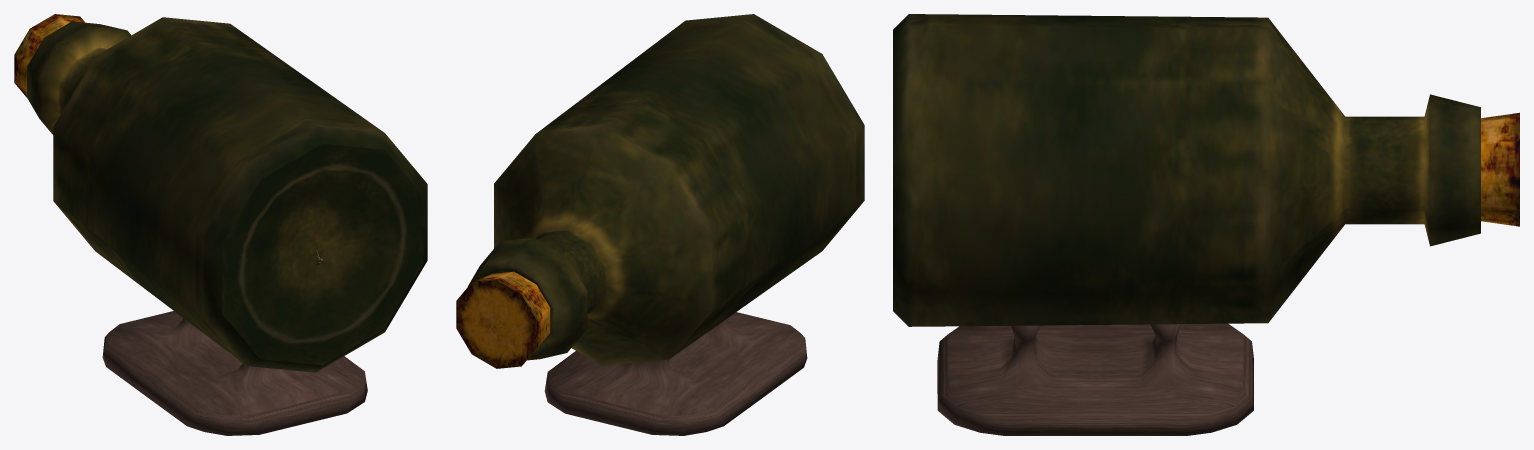
File: ShipInABottle.fbx
3 renders of one model, left to right at view 1: azimuth 30°, elevation 25°; view 2: azimuth 150°, elevation 25°; view 3: azimuth 270°, elevation 25°, orthographic. The views are drawn at different scales.
Parts seen in each view (by area): view 1: pCylinder1, Cube, pCylinder2; view 2: pCylinder1, Cube, pCylinder2; view 3: pCylinder1, Cube, pCylinder2.
Boxes of the visible parts, x1,y1,x2,y2 form: pCylinder1: [27, 17, 427, 372]; Cube: [102, 311, 367, 435]; pCylinder2: [14, 14, 84, 97]; pCylinder1: [467, 14, 864, 365]; Cube: [544, 312, 807, 435]; pCylinder2: [456, 271, 550, 368]; pCylinder1: [893, 14, 1480, 326]; Cube: [937, 323, 1253, 435]; pCylinder2: [1481, 112, 1519, 226].
Size of the model in its own units: 105 by 137 by 216.
